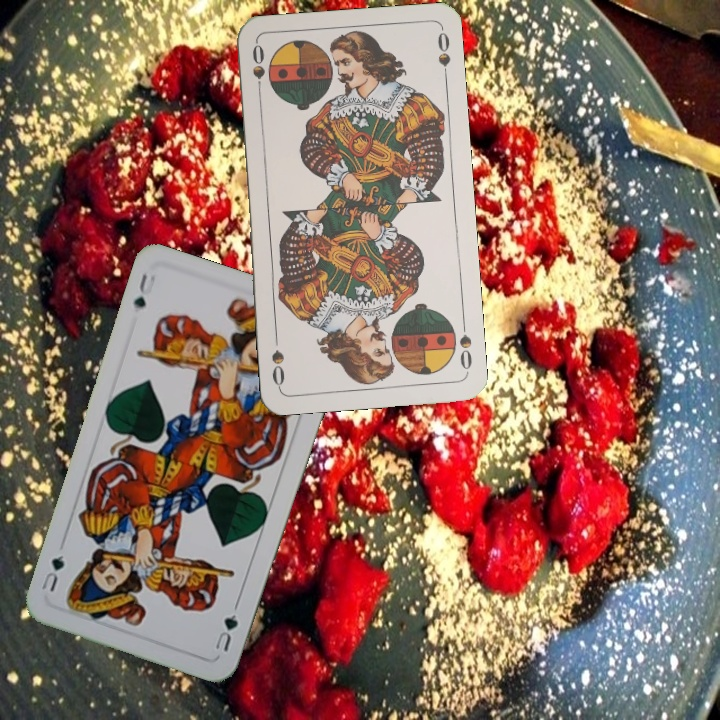GU: (211, 610, 241, 654), (129, 269, 158, 311)
SO: (455, 316, 475, 375), (248, 40, 267, 100)
